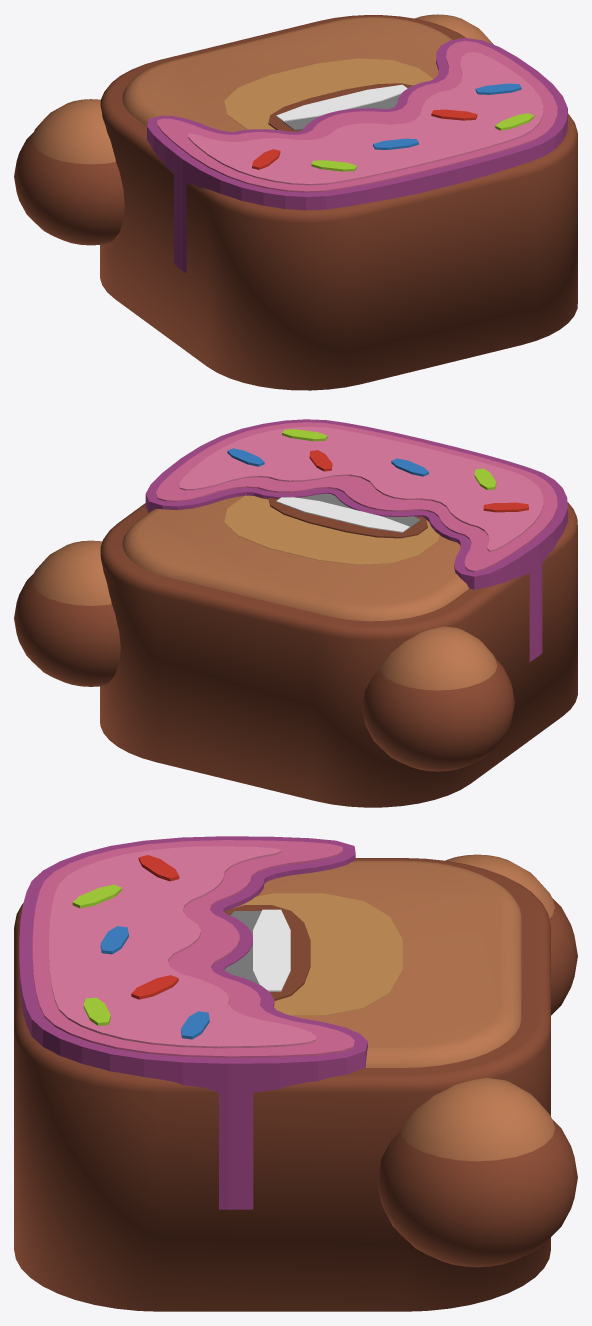
Rendered from body_donut.fbx.
3 views of the same model, one above another, from view 1: azimuth 30°, elevation 25°; view 2: azimuth 150°, elevation 25°; view 3: azimuth 270°, elevation 25° (orthographic). The views are drawn at different scales.
Visible parts, largest first — view 1: body_donut_corpo, body_donut_mao_esq, body_donut_mao; view 2: body_donut_corpo, body_donut_mao_esq, body_donut_mao; view 3: body_donut_corpo, body_donut_mao, body_donut_mao_esq.
Part boxes in pixels (x1,y1,x2,y2): body_donut_corpo: (100, 15, 577, 390); body_donut_mao_esq: (14, 99, 124, 245); body_donut_mao: (415, 14, 493, 44); body_donut_corpo: (100, 419, 577, 807); body_donut_mao_esq: (362, 626, 514, 771); body_donut_mao: (14, 540, 120, 686); body_donut_corpo: (14, 836, 550, 1311); body_donut_mao: (377, 1078, 577, 1267); body_donut_mao_esq: (446, 854, 577, 1015).
Bounding box in the file's own units: 5.4 × 2.1 × 4.2.
1 material, 1 textured.
